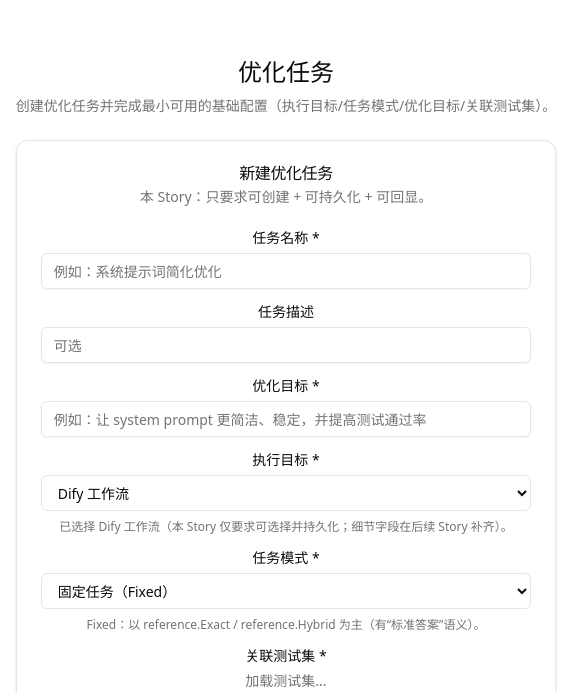
it: OptimizationTasksView › 后端模式校验错误应展示 message（不展示 details）
Type "t1" into the field labelled "任务名称 *" at (286, 271), box [41,253,531,289]
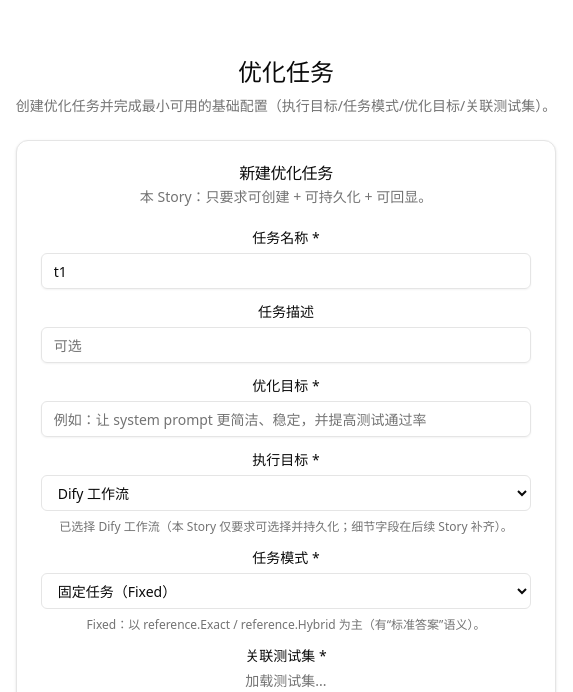
Type "g1" into the field labelled "优化目标 *" at (286, 419), box [41,401,531,437]
(page scrolled)
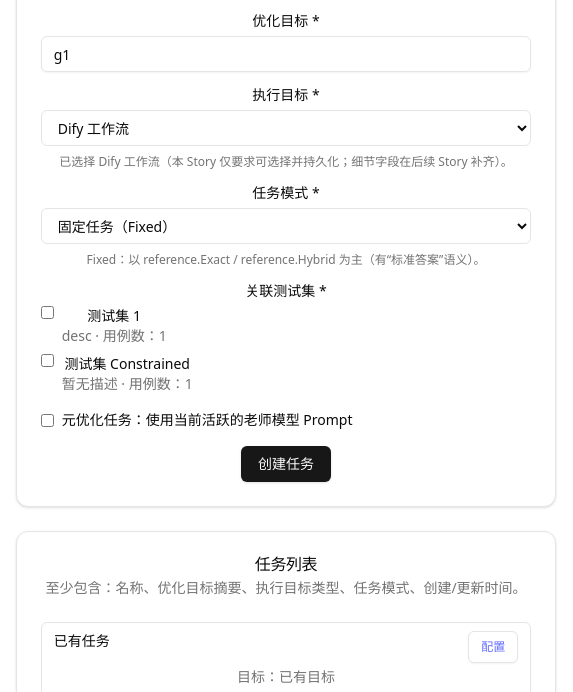
Click the checkbox named "选择测试集 测试集 Constrained" at (47, 360), box [41,354,54,367]
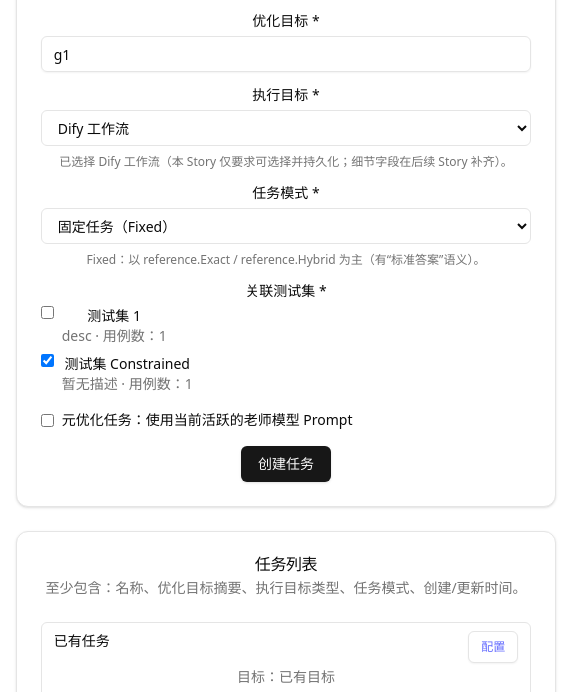
Click the button "创建任务" at (286, 464), box [241,446,331,482]
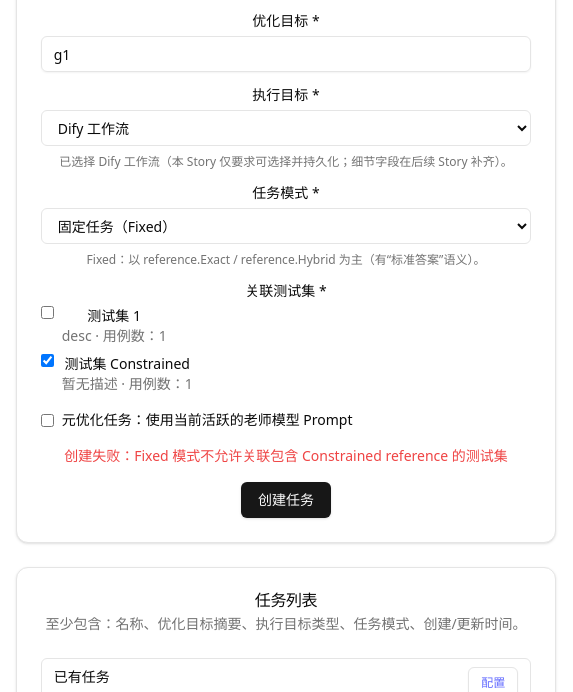
Check: the text "创建失败：Fixed 模式不允许关联包含 Constrained reference 的测试集" is shown, box [41,446,531,466]
